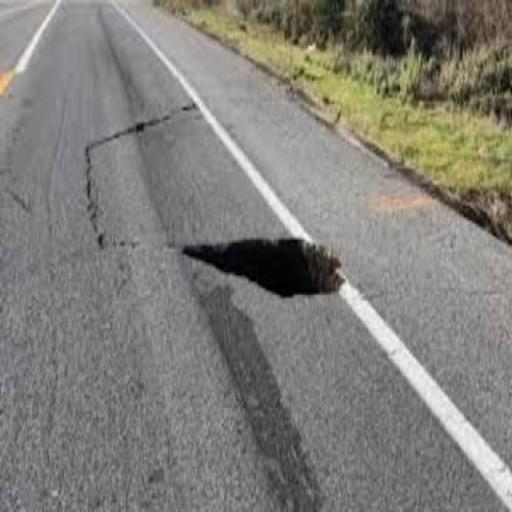Concentric_Crack: (182, 239, 344, 296)
